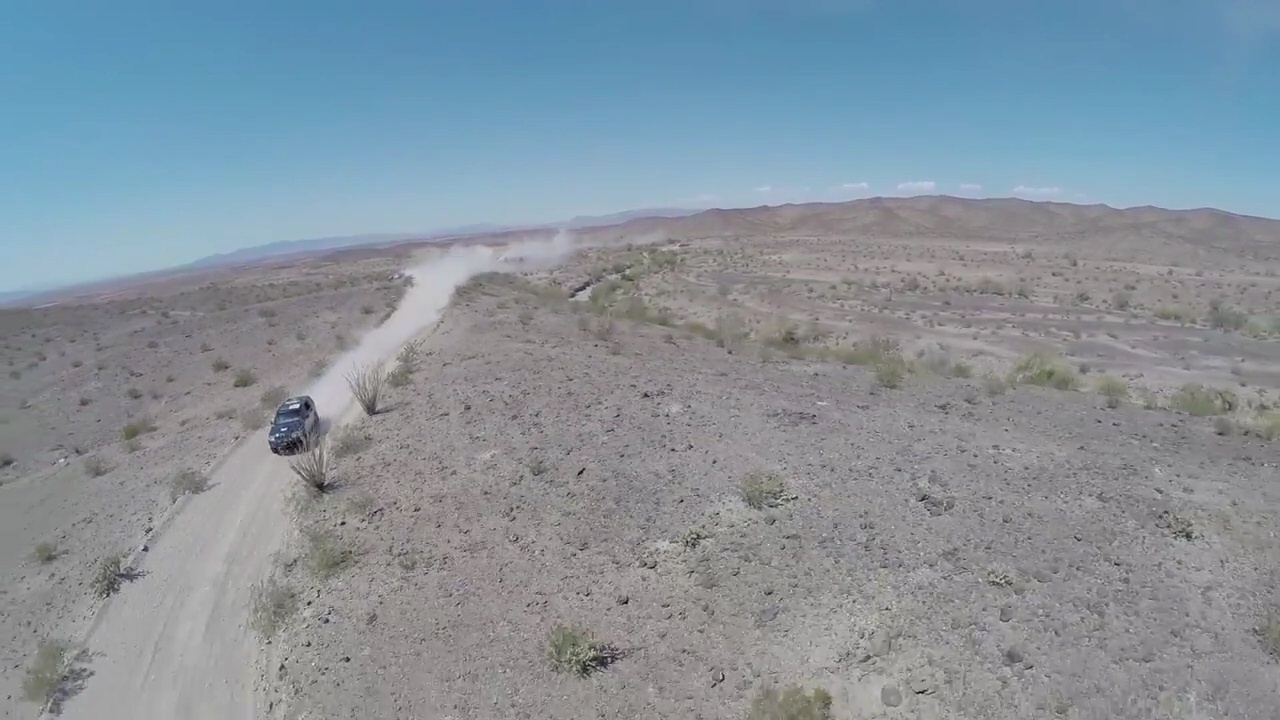araba: (265, 394, 321, 455)
